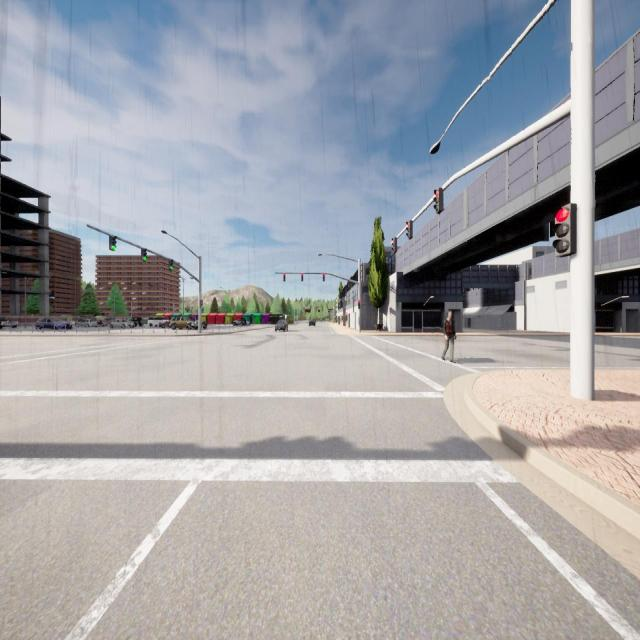Pedestrian: (441, 310, 455, 362)
Vehicle: (35, 318, 72, 330), (170, 316, 192, 330), (146, 316, 169, 328), (109, 319, 135, 329), (74, 317, 98, 327), (0, 317, 18, 329), (275, 319, 288, 332), (192, 320, 207, 330), (232, 318, 246, 326), (131, 317, 142, 327), (98, 319, 110, 327), (159, 321, 170, 328), (308, 320, 316, 326), (247, 320, 250, 326)
traffic_light: (552, 204, 577, 257), (434, 188, 443, 214), (109, 235, 117, 251), (406, 220, 412, 240), (392, 237, 397, 254), (141, 248, 147, 261), (168, 259, 174, 270), (200, 300, 203, 308), (283, 272, 285, 282), (358, 300, 360, 309), (301, 273, 303, 281), (323, 273, 325, 281)
